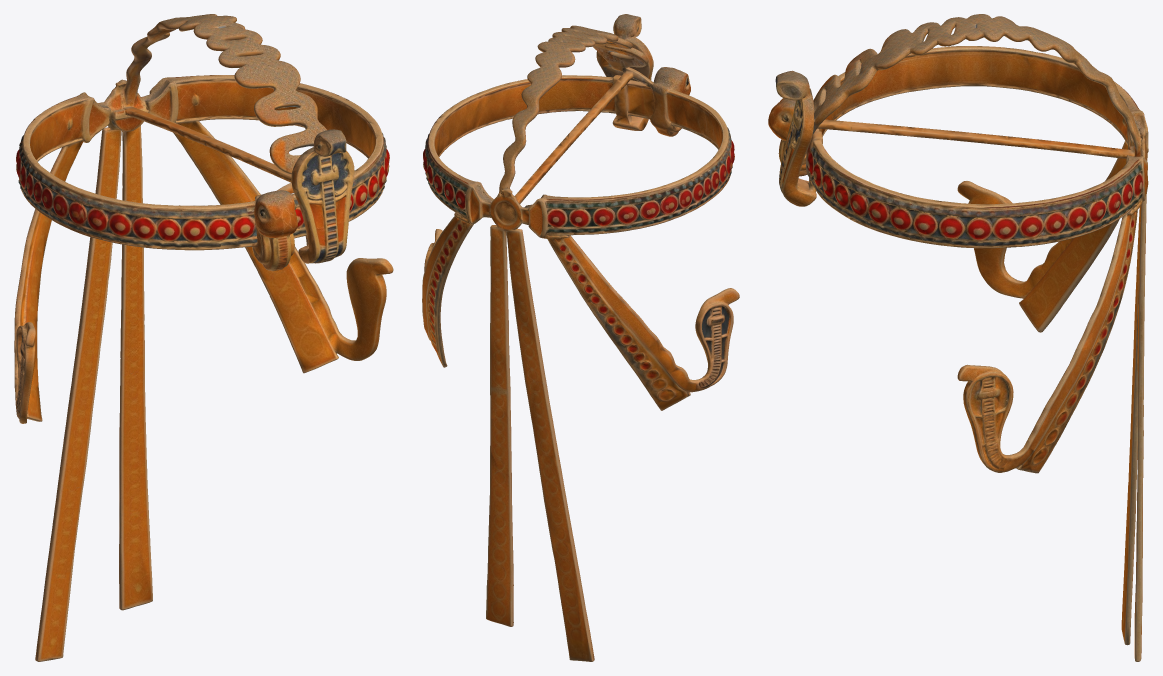
Rendered from diadem-ai.glb.
3 renders of one model, left to right at view 1: azimuth 30°, elevation 25°; view 2: azimuth 150°, elevation 25°; view 3: azimuth 270°, elevation 25°, orthographic. The views are drawn at different scales.
Bounding box in the file's own units: 1.09 × 1.9 × 0.9904.
1 material, 1 textured.
